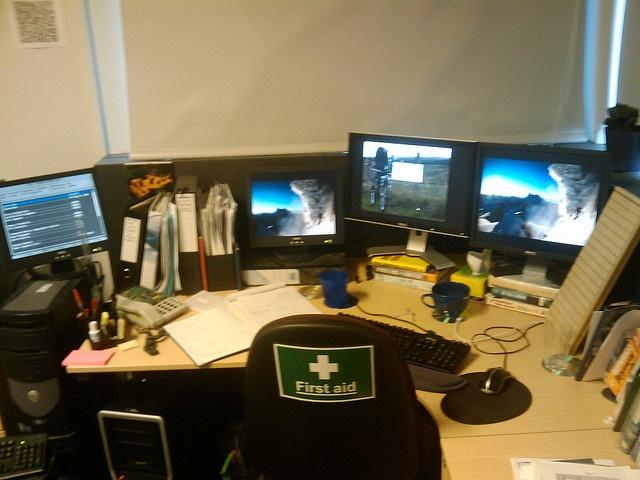AIO PC-Monitor-TV: (468, 141, 610, 258), (343, 131, 475, 236), (0, 166, 114, 271)
